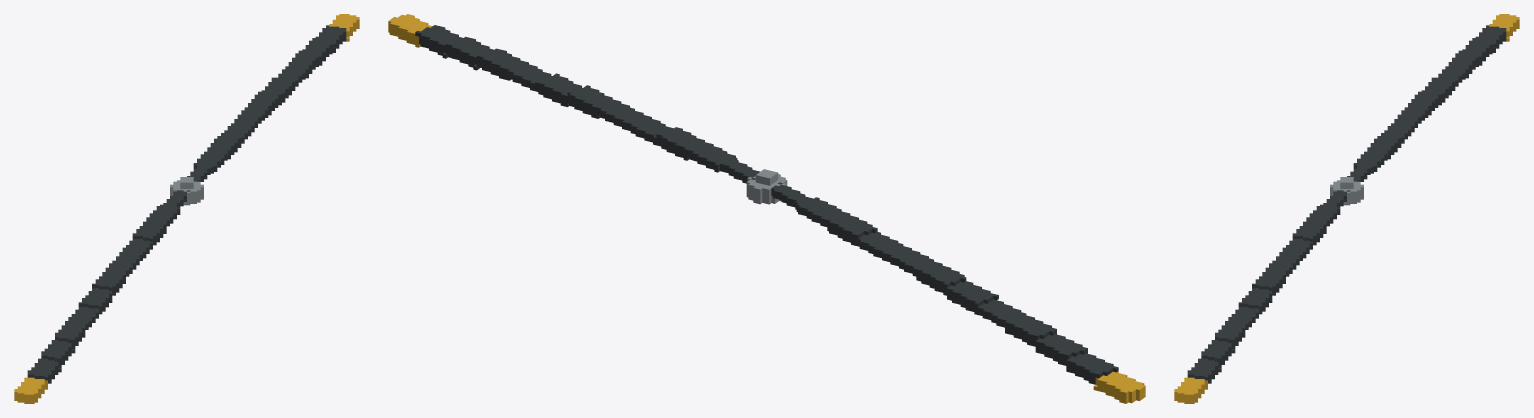
Rendered from light_helicopter_main_rotor.glb.
The picture shows the model from 3 angles, left to right: view 1: azimuth 90°, elevation 25°; view 2: azimuth 150°, elevation 25°; view 3: azimuth 270°, elevation 25°; orthographic projection. The views are drawn at different scales.
Parts seen in each view (by area): view 1: body:compound; view 2: body:compound; view 3: body:compound.
Boxes of the visible parts, <box> form: body:compound: <box>14,14,359,403</box>; body:compound: <box>388,14,1145,403</box>; body:compound: <box>1174,14,1519,403</box>.
Size of the model in its own units: 8.31 by 0.3438 by 3.19.
